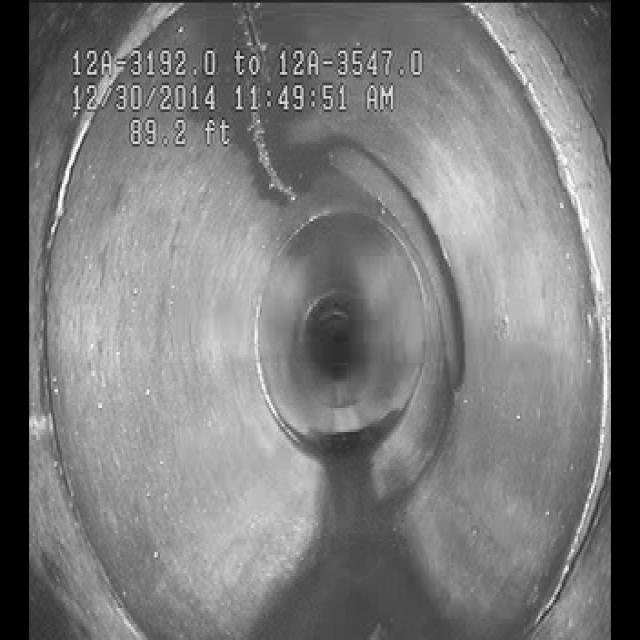Crack: (236, 113, 334, 213)
